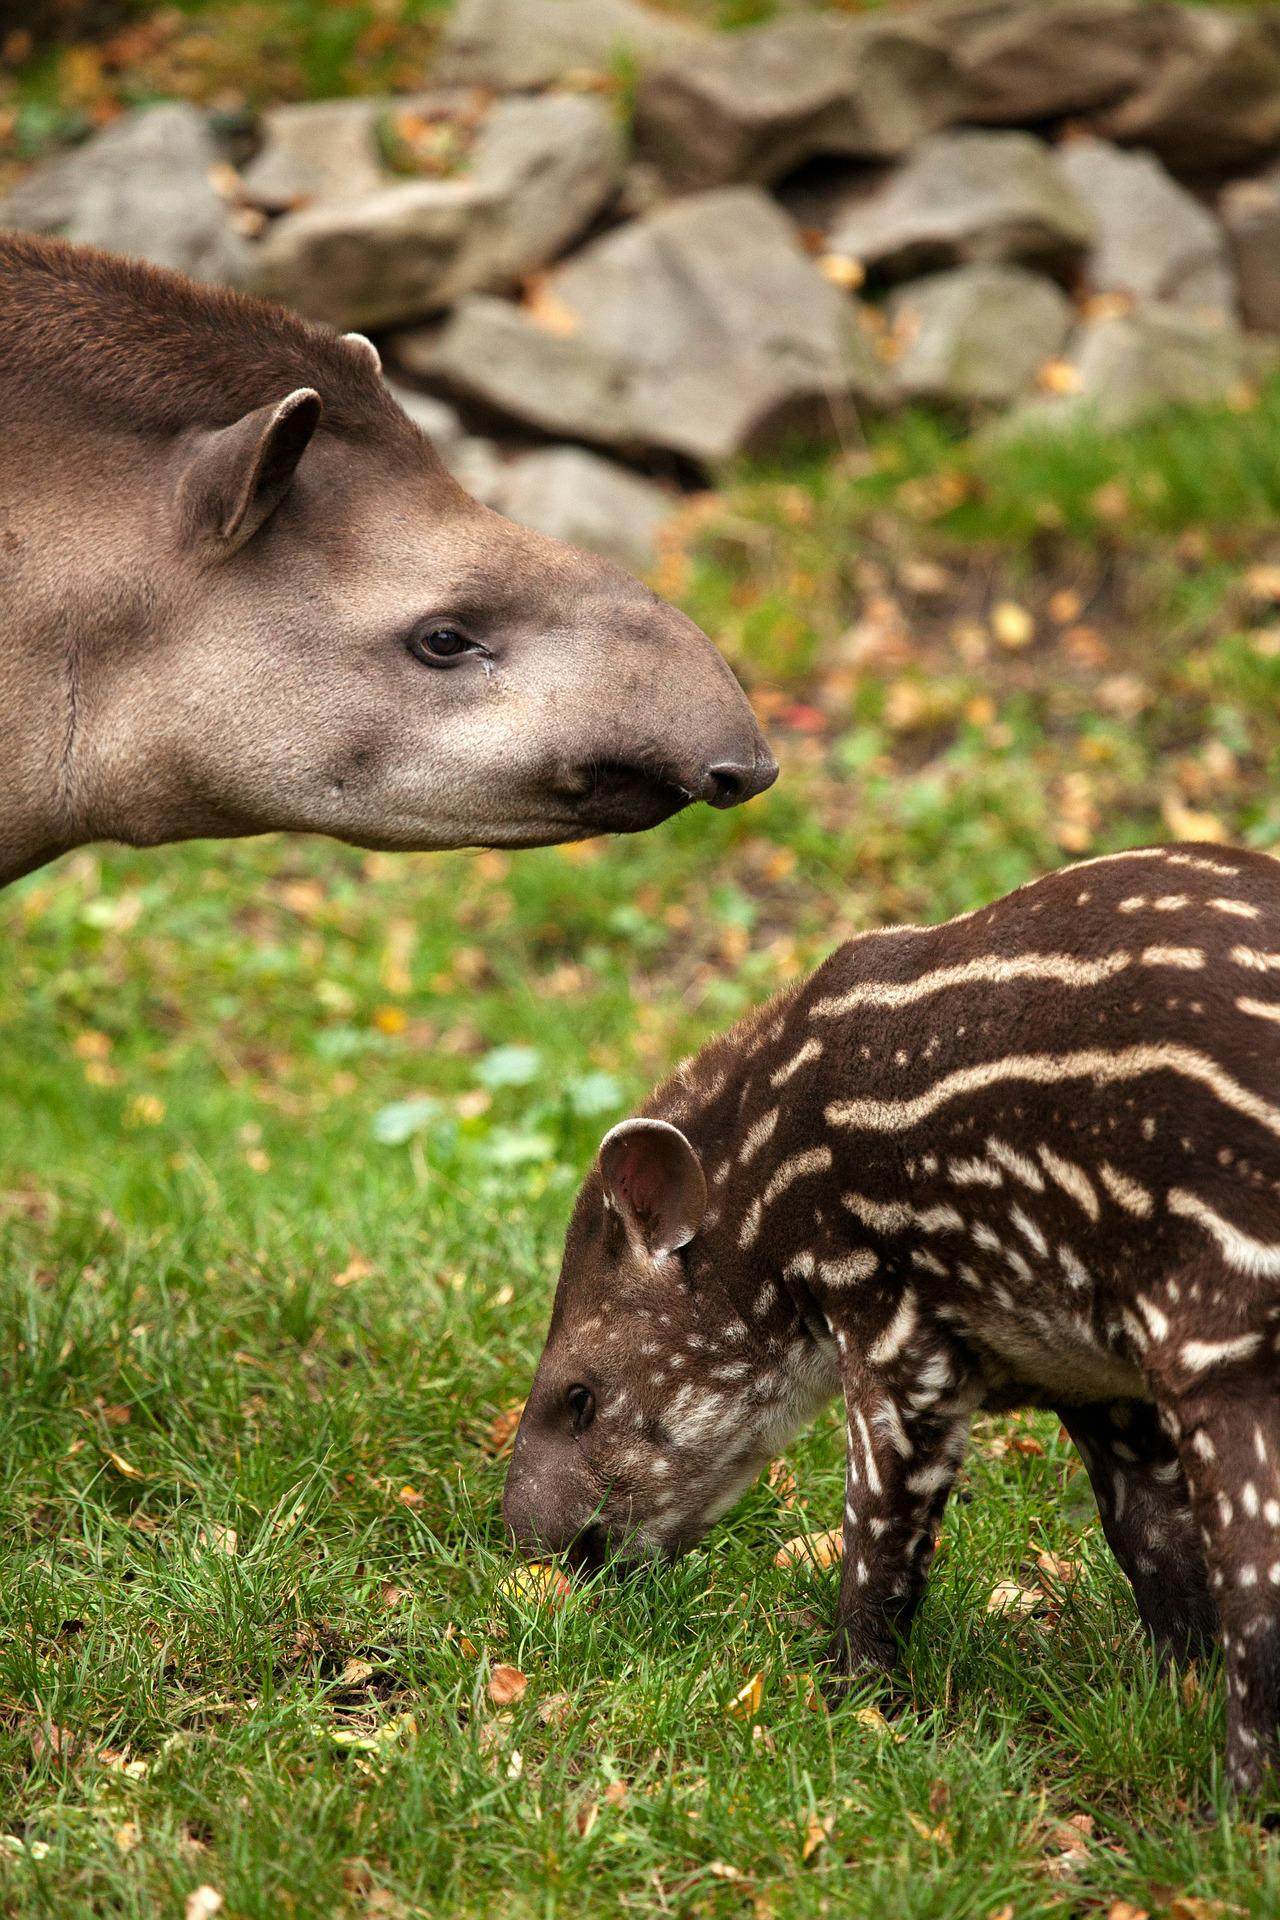Anta: (421, 843, 1271, 1809), (7, 187, 821, 919)
